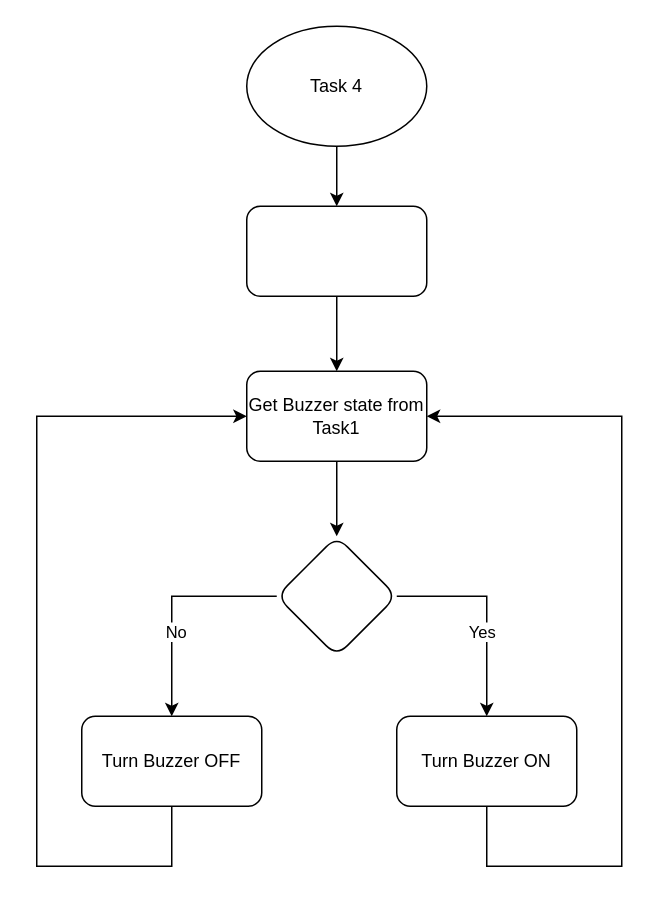
Some shapes in this 660 by 905 pixel diagram are drawn without their labels. Here are the shapes that lost their labels. From the top down, the box of each, then its label:
(245, 205, 427, 296): Initialize Buzzer
(275, 535, 397, 656): Buzzer = 1
